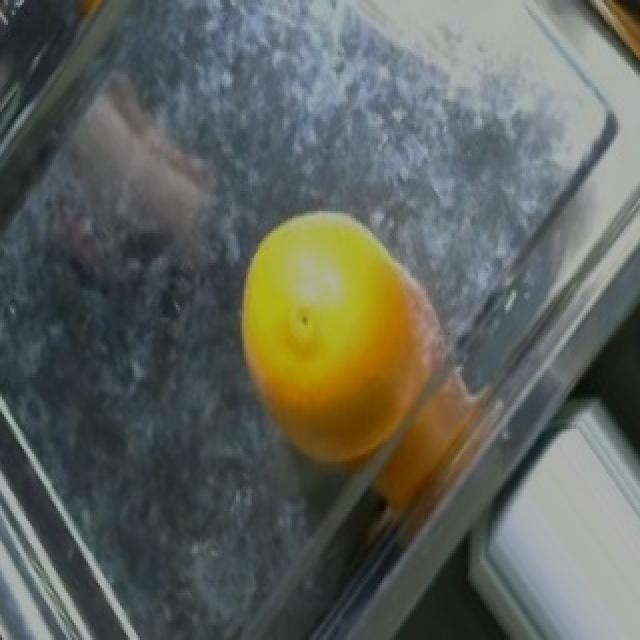Fruit: (220, 201, 466, 491), (506, 0, 640, 104)
